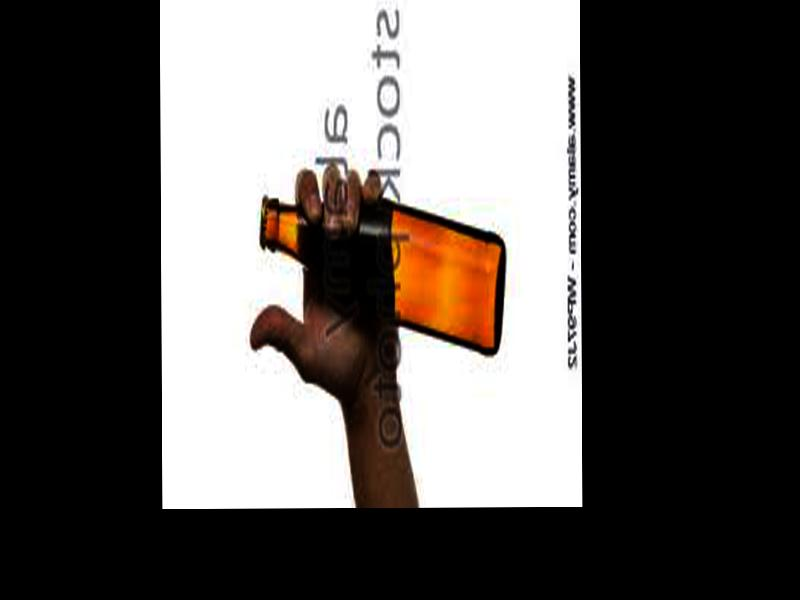Beer: (262, 191, 504, 358)
